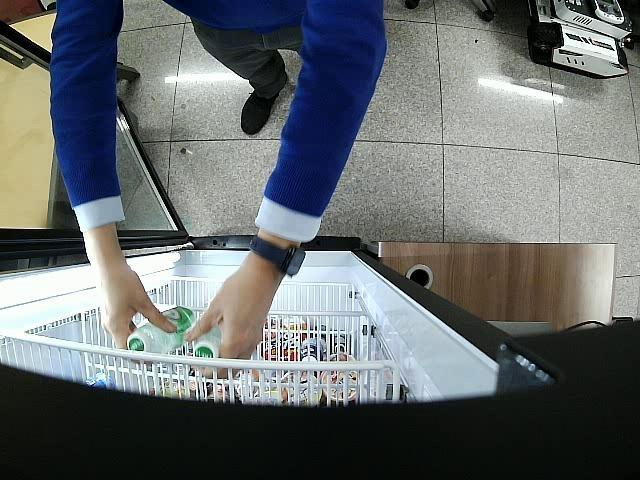18_trevi: (127, 304, 196, 350), (193, 328, 222, 358)
